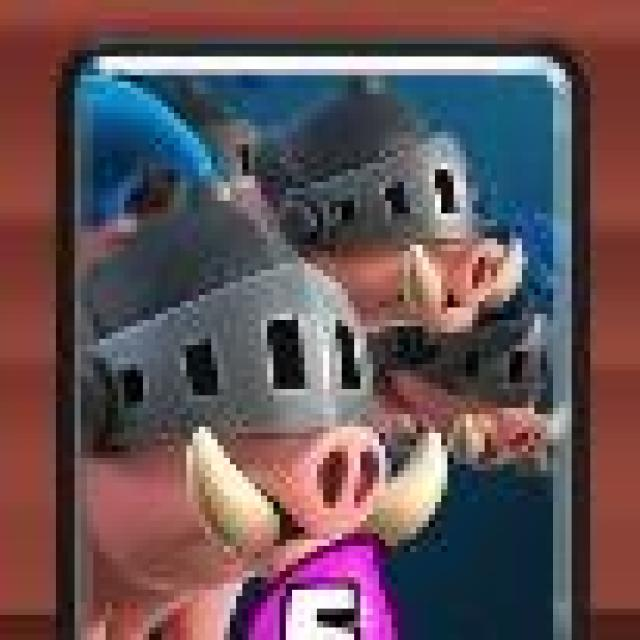Royal_Hogs: (64, 46, 578, 640)
